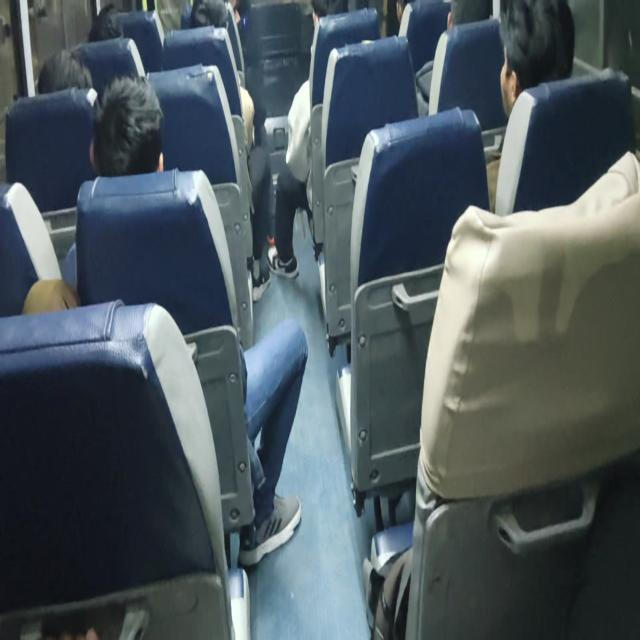person: (22, 73, 309, 567), (21, 74, 165, 314), (189, 0, 272, 302), (265, 0, 344, 279), (483, 0, 576, 212), (414, 0, 493, 116), (498, 0, 575, 119), (89, 74, 164, 177), (37, 47, 93, 94)
